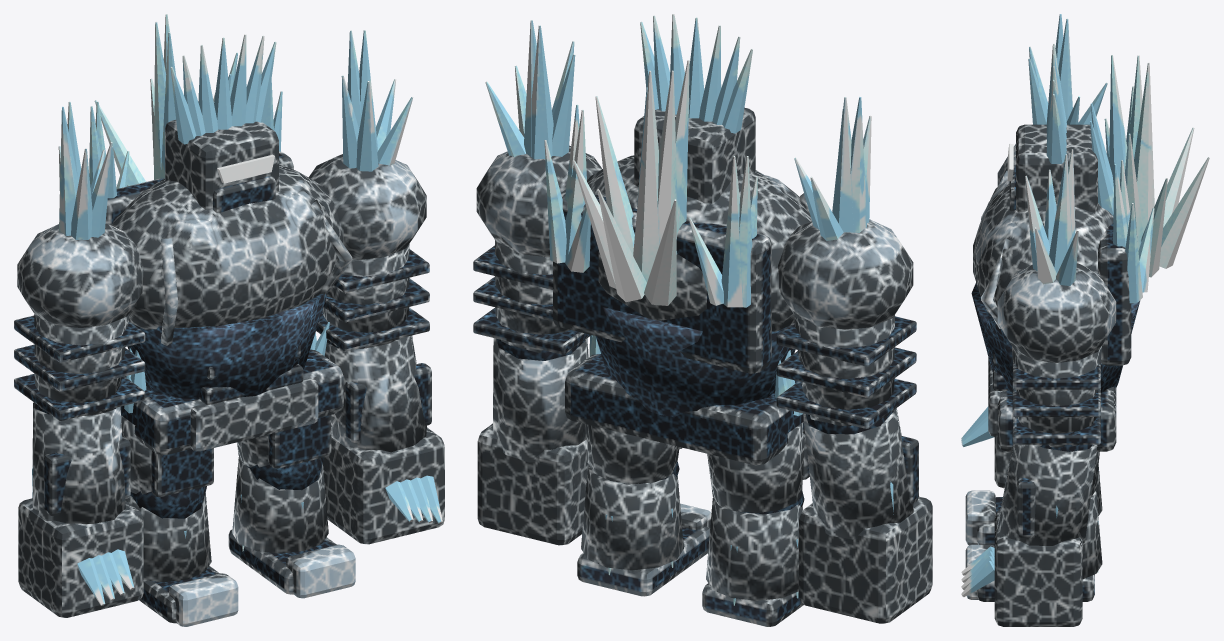
Rendered from Rime.glb.
3 renders of one model, left to right at view 1: azimuth 30°, elevation 25°; view 2: azimuth 150°, elevation 25°; view 3: azimuth 270°, elevation 25°, orthographic. The views are drawn at different scales.
Visible parts, largest first — view 1: Rime_spine, Rime_upperArmR, Rime_upperArmL, Rime_head, Rime_handR, Rime_hips, Rime_handL, Rime_lowerArmR, Rime_lowerArmL, Rime_lowerLegL, Rime_back, Rime_upperLegR (+4 smaller); view 2: Rime_spine, Rime_upperArmR, Rime_back, Rime_upperArmL, Rime_handR, Rime_head, Rime_hips, Rime_lowerArmR, Rime_handL, Rime_lowerLegL, Rime_lowerArmL, Rime_lowerLegR (+4 smaller); view 3: Rime_upperArmL, Rime_back, Rime_spine, Rime_handL, Rime_lowerArmL, Rime_head, Rime_upperArmR, Rime_hips, Rime_footR, Rime_handR, Rime_lowerLegL, Rime_footL.
Part boxes in pixels (x1,y1,x2,y2): Rime_spine: [105, 151, 352, 404]; Rime_upperArmR: [14, 101, 145, 420]; Rime_upperArmL: [308, 30, 429, 351]; Rime_head: [165, 34, 278, 212]; Rime_handR: [18, 498, 143, 617]; Rime_hips: [120, 322, 343, 454]; Rime_handL: [323, 425, 444, 544]; Rime_lowerArmR: [32, 402, 130, 524]; Rime_lowerArmL: [324, 335, 431, 452]; Rime_lowerLegL: [232, 457, 328, 553]; Rime_back: [89, 14, 282, 198]; Rime_upperLegR: [121, 415, 213, 518]; Rime_spine: [553, 155, 811, 417]; Rime_upperArmR: [776, 97, 916, 434]; Rime_back: [544, 60, 757, 307]; Rime_upperArmL: [473, 20, 602, 360]; Rime_handR: [799, 496, 932, 623]; Rime_head: [634, 14, 755, 203]; Rime_hips: [565, 335, 804, 465]; Rime_lowerArmR: [803, 408, 918, 539]; Rime_handL: [477, 423, 588, 545]; Rime_lowerLegL: [581, 466, 683, 575]; Rime_lowerArmL: [493, 338, 588, 462]; Rime_lowerLegR: [706, 497, 802, 605]; Rime_upperArmL: [997, 149, 1116, 451]; Rime_back: [1090, 55, 1209, 303]; Rime_spine: [971, 170, 1140, 392]; Rime_handL: [961, 510, 1082, 626]; Rime_lowerArmL: [998, 443, 1097, 545]; Rime_head: [1007, 44, 1097, 212]; Rime_upperArmR: [997, 14, 1107, 185]; Rime_hips: [988, 357, 1116, 451]; Rime_footR: [965, 490, 1002, 546]; Rime_handR: [961, 406, 1011, 488]; Rime_lowerLegL: [1082, 491, 1102, 579]; Rime_footL: [965, 544, 1094, 601].
Bounding box in the file's own units: 2.82 × 3.68 × 1.64.
Materials: 1 (1 with a texture image).
